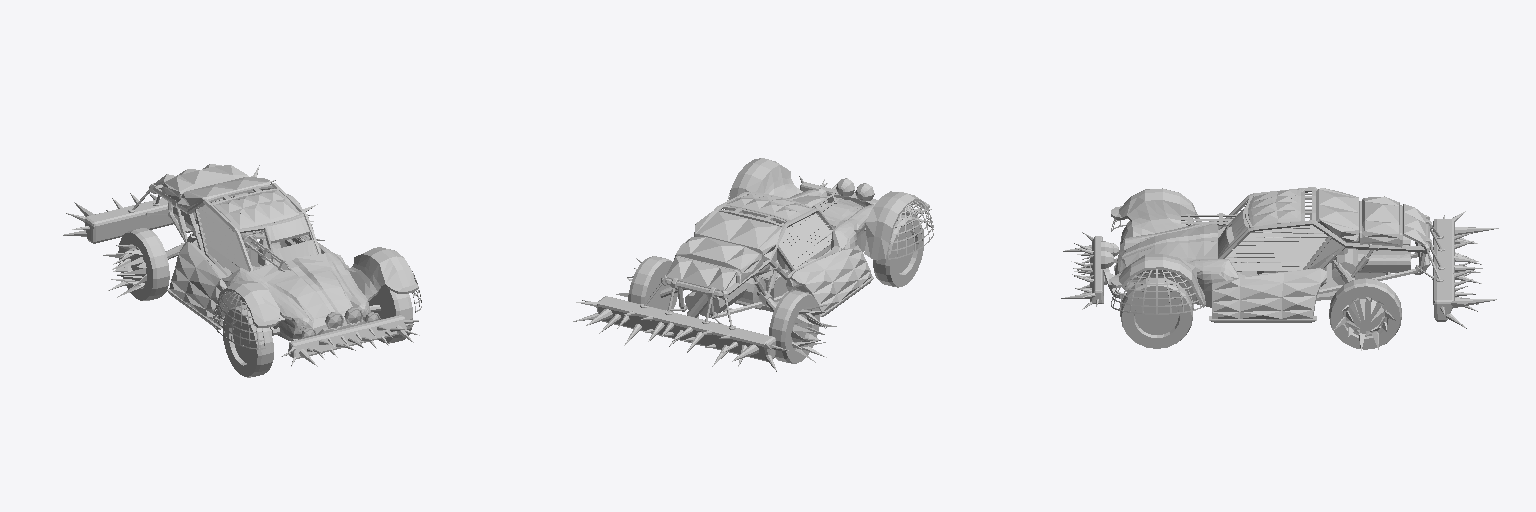
File: Just Armor Buggy V2.obj
3 views of the same model, side by side, from view 1: azimuth 30°, elevation 25°; view 2: azimuth 150°, elevation 25°; view 3: azimuth 270°, elevation 25° (orthographic).
Visible parts, largest first — view 1: Buggy_Geo Buggy_Buggy Buggy, Buggy_Geo Buggy_Buggy Buggy Wheel1_Geo Wheels, Buggy_Geo Buggy_Buggy Buggy Buggy_Armor Panel_7_Geo, Buggy_Geo Buggy_Buggy Buggy Buggy_Armor Back_Bumper Bumper, Buggy_Geo Buggy_Buggy Buggy Buggy_Armor Front_Bumper, Buggy_Geo Buggy_Buggy Buggy Wheels Wheel3_Geo, Buggy_Geo Buggy_Buggy Buggy Buggy_Armor Panel_4_Geo, Buggy_Geo Buggy_Buggy Buggy Buggy_Armor Window_Visors, Buggy_Geo Buggy_Buggy Buggy Buggy_Armor WindShield, Buggy_Geo Buggy_Buggy Buggy Buggy_Armor Panel_1_Geo, Buggy_Geo Buggy_Buggy Buggy Wheels Wheel4_Geo, Buggy_Geo Buggy_Buggy Buggy Buggy_Armor Panel_3_Geo (+2 smaller); view 2: Buggy_Geo Buggy_Buggy Buggy, Buggy_Geo Buggy_Buggy Buggy Buggy_Armor Back_Bumper Bumper, Buggy_Geo Buggy_Buggy Buggy Wheel1_Geo Wheels, Buggy_Geo Buggy_Buggy Buggy Buggy_Armor Panel_7_Geo, Buggy_Geo Buggy_Buggy Buggy Buggy_Armor Panel_3_Geo, Buggy_Geo Buggy_Buggy Buggy Wheels Wheel3_Geo, Buggy_Geo Buggy_Buggy Buggy Buggy_Armor Panel_1_Geo, Buggy_Geo Buggy_Buggy Buggy Buggy_Armor Window_Visors, Buggy_Geo Buggy_Buggy Buggy Wheels Wheel2_Geo, Buggy_Geo Buggy_Buggy Buggy Buggy_Armor Panel_2_Geo, Buggy_Geo Buggy_Buggy Buggy Buggy_Armor Panel_4_Geo, Buggy_Geo Buggy_Buggy Buggy Buggy_Armor Wheel_Guard; view 3: Buggy_Geo Buggy_Buggy Buggy, Buggy_Geo Buggy_Buggy Buggy Buggy_Armor Panel_6_Geo, Buggy_Geo Buggy_Buggy Buggy Wheels Wheel2_Geo, Buggy_Geo Buggy_Buggy Buggy Wheels Wheel4_Geo, Buggy_Geo Buggy_Buggy Buggy Buggy_Armor Window_Visors, Buggy_Geo Buggy_Buggy Buggy Buggy_Armor Back_Bumper Bumper, Buggy_Geo Buggy_Buggy Buggy Buggy_Armor Panel_3_Geo, Buggy_Geo Buggy_Buggy Buggy Buggy_Armor Panel_1_Geo, Buggy_Geo Buggy_Buggy Buggy Buggy_Armor Panel_4_Geo, Buggy_Geo Buggy_Buggy Buggy Buggy_Armor Front_Bumper, Buggy_Geo Buggy_Buggy Buggy Buggy_Armor Wheel_Guard, Buggy_Geo Buggy_Buggy Buggy Buggy_Armor Panel_2_Geo (+1 smaller).
Boxes of the visible parts, <box> form: Buggy_Geo Buggy_Buggy Buggy: <box>153,183,418,340</box>; Buggy_Geo Buggy_Buggy Buggy Wheel1_Geo Wheels: <box>103,228,169,300</box>; Buggy_Geo Buggy_Buggy Buggy Buggy_Armor Panel_7_Geo: <box>169,242,226,325</box>; Buggy_Geo Buggy_Buggy Buggy Buggy_Armor Back_Bumper Bumper: <box>63,165,275,243</box>; Buggy_Geo Buggy_Buggy Buggy Buggy_Armor Front_Bumper: <box>281,315,419,366</box>; Buggy_Geo Buggy_Buggy Buggy Wheels Wheel3_Geo: <box>223,305,273,377</box>; Buggy_Geo Buggy_Buggy Buggy Buggy_Armor Panel_4_Geo: <box>213,190,298,228</box>; Buggy_Geo Buggy_Buggy Buggy Buggy_Armor Window_Visors: <box>197,188,309,272</box>; Buggy_Geo Buggy_Buggy Buggy Buggy_Armor WindShield: <box>264,215,317,262</box>; Buggy_Geo Buggy_Buggy Buggy Buggy_Armor Panel_1_Geo: <box>162,165,248,204</box>; Buggy_Geo Buggy_Buggy Buggy Wheels Wheel4_Geo: <box>368,286,412,343</box>; Buggy_Geo Buggy_Buggy Buggy Buggy_Armor Panel_3_Geo: <box>178,177,269,209</box>; Buggy_Geo Buggy_Buggy Buggy: <box>660,158,929,317</box>; Buggy_Geo Buggy_Buggy Buggy Buggy_Armor Back_Bumper Bumper: <box>573,296,776,371</box>; Buggy_Geo Buggy_Buggy Buggy Wheel1_Geo Wheels: <box>769,290,836,363</box>; Buggy_Geo Buggy_Buggy Buggy Buggy_Armor Panel_7_Geo: <box>790,245,871,311</box>; Buggy_Geo Buggy_Buggy Buggy Buggy_Armor Panel_3_Geo: <box>694,211,781,261</box>; Buggy_Geo Buggy_Buggy Buggy Wheels Wheel3_Geo: <box>873,214,923,287</box>; Buggy_Geo Buggy_Buggy Buggy Buggy_Armor Panel_1_Geo: <box>674,237,762,282</box>; Buggy_Geo Buggy_Buggy Buggy Buggy_Armor Window_Visors: <box>723,209,832,268</box>; Buggy_Geo Buggy_Buggy Buggy Wheels Wheel2_Geo: <box>616,256,677,311</box>; Buggy_Geo Buggy_Buggy Buggy Buggy_Armor Panel_2_Geo: <box>666,257,736,291</box>; Buggy_Geo Buggy_Buggy Buggy Buggy_Armor Panel_4_Geo: <box>726,194,809,220</box>; Buggy_Geo Buggy_Buggy Buggy Buggy_Armor Wheel_Guard: <box>727,190,933,259</box>; Buggy_Geo Buggy_Buggy Buggy: <box>1101,187,1430,307</box>; Buggy_Geo Buggy_Buggy Buggy Buggy_Armor Panel_6_Geo: <box>1212,268,1326,319</box>; Buggy_Geo Buggy_Buggy Buggy Wheels Wheel2_Geo: <box>1329,278,1401,350</box>; Buggy_Geo Buggy_Buggy Buggy Wheels Wheel4_Geo: <box>1120,279,1192,348</box>; Buggy_Geo Buggy_Buggy Buggy Buggy_Armor Window_Visors: <box>1225,193,1327,271</box>; Buggy_Geo Buggy_Buggy Buggy Buggy_Armor Back_Bumper Bumper: <box>1433,211,1498,328</box>; Buggy_Geo Buggy_Buggy Buggy Buggy_Armor Panel_3_Geo: <box>1316,188,1359,242</box>; Buggy_Geo Buggy_Buggy Buggy Buggy_Armor Panel_1_Geo: <box>1362,196,1399,246</box>; Buggy_Geo Buggy_Buggy Buggy Buggy_Armor Panel_4_Geo: <box>1248,189,1300,225</box>; Buggy_Geo Buggy_Buggy Buggy Buggy_Armor Front_Bumper: <box>1061,232,1103,309</box>; Buggy_Geo Buggy_Buggy Buggy Buggy_Armor Wheel_Guard: <box>1111,218,1201,314</box>; Buggy_Geo Buggy_Buggy Buggy Buggy_Armor Panel_2_Geo: <box>1403,204,1425,244</box>.
Size of the model in its own units: 4.58 by 2.36 by 8.37.